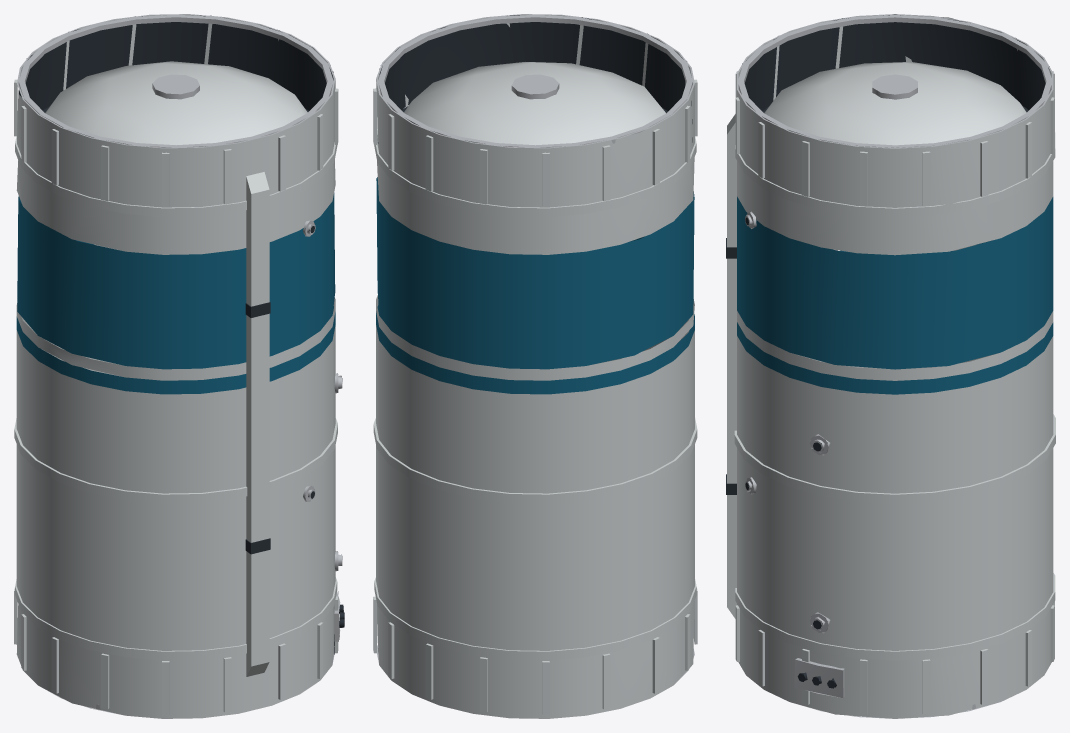
The model's file is tank_s2_m.glb.
3 views of the same model, side by side, from view 1: azimuth 30°, elevation 25°; view 2: azimuth 150°, elevation 25°; view 3: azimuth 270°, elevation 25° (orthographic).
Parts seen in each view (by area): view 1: tank_s2_m_mesh; view 2: tank_s2_m_mesh; view 3: tank_s2_m_mesh.
Part boxes in pixels (x1,y1,x2,y2): tank_s2_m_mesh: (14,14,344,718); tank_s2_m_mesh: (373,14,697,718); tank_s2_m_mesh: (726,14,1055,718).
Bounding box in the file's own units: 3.76 × 7.3 × 3.83.
